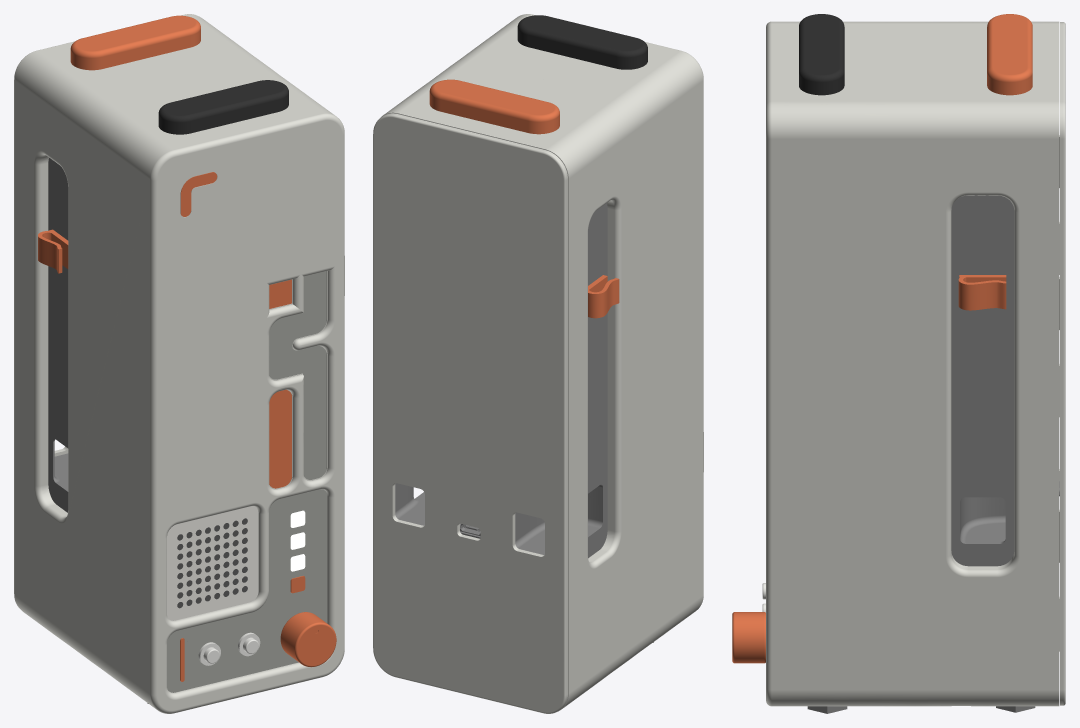
The model's file is headphone-stand-live.glb.
The picture shows the model from 3 angles, left to right: view 1: azimuth 30°, elevation 25°; view 2: azimuth 150°, elevation 25°; view 3: azimuth 270°, elevation 25°; orthographic projection. The views are drawn at different scales.
Parts seen in each view (by area): view 1: enclosure, panel, matrix_surface, fixed_internal, front_holder, rear_holder, stand_knob, led_matrix, front_insert, stand_clip, button_b, stand_logo; view 2: enclosure, fixed_internal, rear_holder, front_holder, stand_clip; view 3: enclosure, fixed_internal, front_holder, rear_holder, stand_knob, stand_clip.
Part boxes in pixels (x1,y1,x2,y2): enclosure: (14,14,344,713); panel: (167,271,327,692); matrix_surface: (167,506,258,620); fixed_internal: (48,157,148,703); front_holder: (158,80,288,134); rear_holder: (70,15,200,70); stand_knob: (280,612,336,667); led_matrix: (177,518,247,608); front_insert: (269,389,291,488); stand_clip: (38,229,68,273); button_b: (180,279,291,681); stand_logo: (180,172,217,216); enclosure: (373,14,703,713); fixed_internal: (395,203,653,642); rear_holder: (429,79,559,134); front_holder: (517,15,647,69); stand_clip: (588,275,619,318); enclosure: (766,21,1065,706); fixed_internal: (807,195,1059,713); front_holder: (799,14,844,95); rear_holder: (987,14,1032,95); stand_knob: (732,612,765,663); stand_clip: (958,275,1006,310).
Bounding box in the file's own units: 0.0894 × 0.244 × 0.1168.
